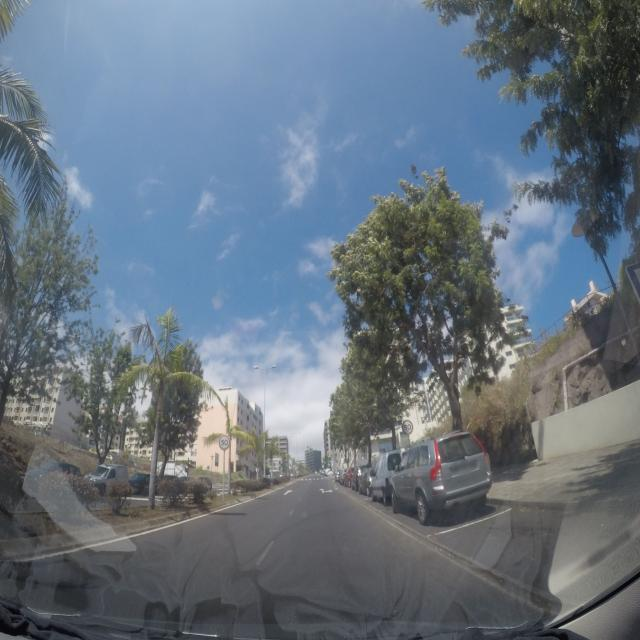car: (390, 430, 492, 526), (370, 450, 404, 504), (82, 464, 131, 497), (36, 459, 84, 484), (165, 474, 213, 495), (128, 472, 160, 496), (358, 466, 377, 496), (349, 464, 368, 491), (342, 466, 353, 487), (334, 468, 344, 482)
